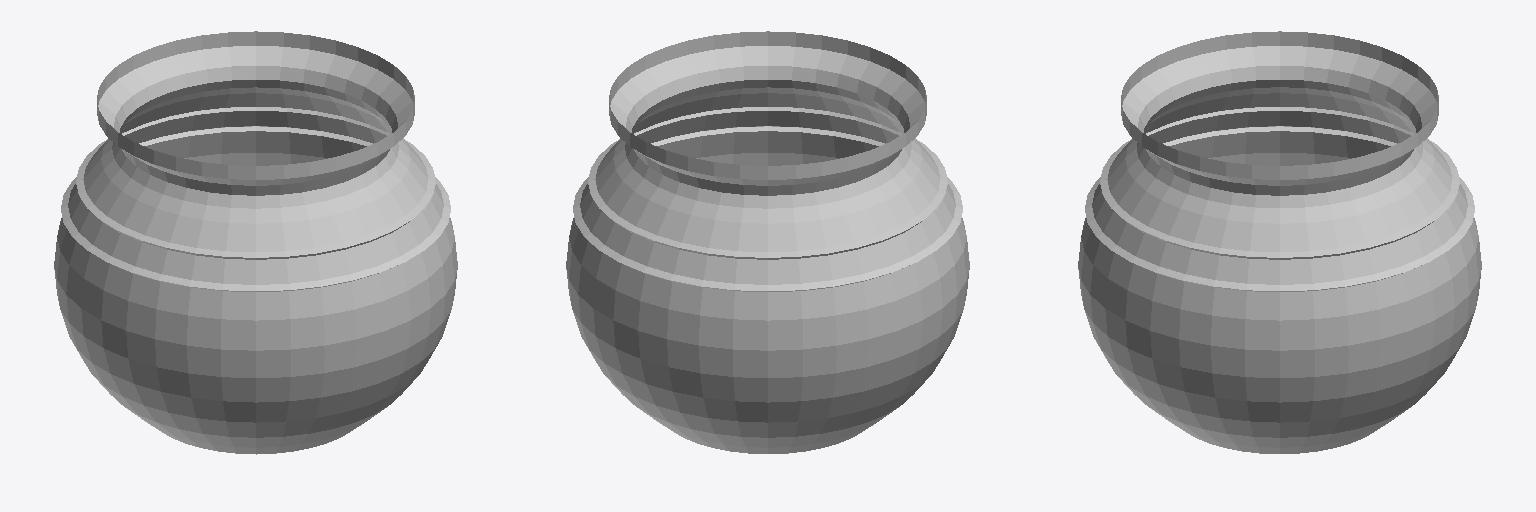
The model's file is cauldron.obj.
3 views of the same model, side by side, from view 1: azimuth 30°, elevation 25°; view 2: azimuth 150°, elevation 25°; view 3: azimuth 270°, elevation 25° (orthographic).
Visible parts, largest first — view 1: Sphere; view 2: Sphere; view 3: Sphere.
Part boxes in pixels (x1,y1,x2,y2): Sphere: (54,31,457,454); Sphere: (566,31,969,453); Sphere: (1078,31,1481,453).
Size of the model in its own units: 2.2 by 1.89 by 2.2.